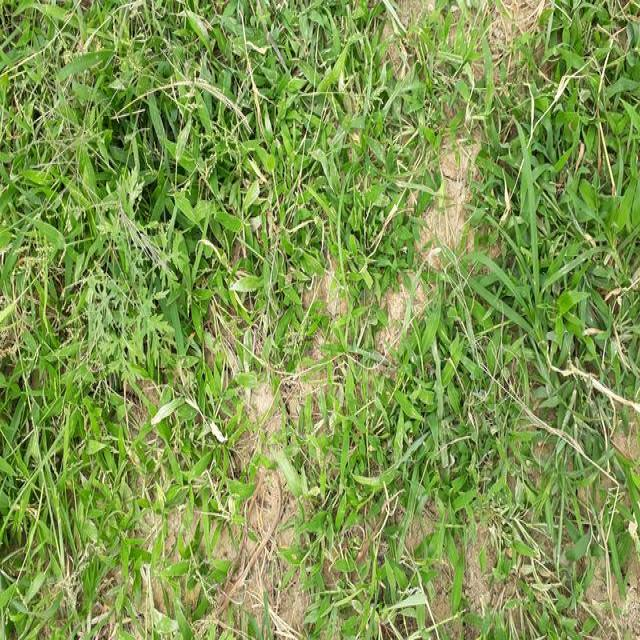weed: (330, 398, 610, 632), (55, 61, 251, 290), (479, 124, 608, 372)
